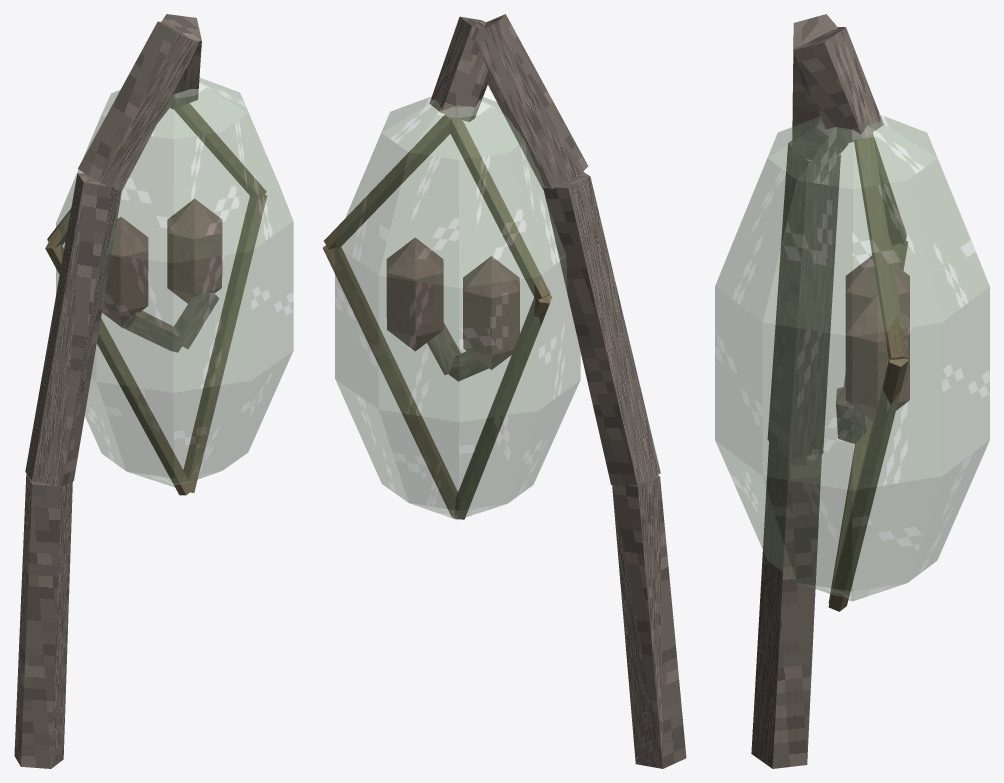
Rendered from f_alien_pod_organ.glb.
3 views of the same model, side by side, from view 1: azimuth 30°, elevation 25°; view 2: azimuth 150°, elevation 25°; view 3: azimuth 270°, elevation 25° (orthographic). The views are drawn at different scales.
Parts seen in each view (by area): view 1: block_translucent-pod-membrane, block_arched-suspension-stalk-2, block_arched-suspension-stalk-1, block_obscured-organ-outline (×2), block_arched-suspension-stalk-3, block_membrane-vein-2 (×2), block_membrane-vein-1, block_arched-suspension-stalk-4, block_faint-preserved-strand-2, block_faint-preserved-strand-1; view 2: block_translucent-pod-membrane, block_arched-suspension-stalk-2, block_arched-suspension-stalk-1, block_obscured-organ-outline (×2), block_membrane-vein-2 (×2), block_arched-suspension-stalk-3, block_membrane-vein-1 (×2), block_arched-suspension-stalk-4, block_faint-preserved-strand-2, block_faint-preserved-strand-1; view 3: block_translucent-pod-membrane, block_arched-suspension-stalk-1, block_arched-suspension-stalk-2, block_membrane-vein-2 (×2), block_obscured-organ-outline (×2), block_arched-suspension-stalk-4, block_membrane-vein-1 (×2), block_arched-suspension-stalk-3, block_faint-preserved-strand-2.
Part boxes in pixels (x1,y1,x2,y2): block_translucent-pod-membrane: [56, 78, 293, 487]; block_arched-suspension-stalk-2: [25, 173, 121, 486]; block_arched-suspension-stalk-1: [14, 474, 72, 768]; block_obscured-organ-outline (×2): [102, 199, 222, 326]; block_arched-suspension-stalk-3: [78, 21, 198, 191]; block_membrane-vein-2 (×2): [45, 195, 266, 495]; block_membrane-vein-1: [174, 103, 266, 198]; block_arched-suspension-stalk-4: [161, 14, 201, 109]; block_faint-preserved-strand-2: [174, 290, 218, 349]; block_faint-preserved-strand-1: [121, 311, 181, 352]; block_translucent-pod-membrane: [335, 96, 580, 519]; block_arched-suspension-stalk-2: [543, 171, 660, 485]; block_arched-suspension-stalk-1: [612, 475, 686, 768]; block_obscured-organ-outline (×2): [386, 237, 519, 369]; block_membrane-vein-2 (×2): [323, 245, 551, 519]; block_arched-suspension-stalk-3: [476, 14, 588, 189]; block_membrane-vein-1 (×2): [324, 114, 550, 300]; block_arched-suspension-stalk-4: [429, 16, 492, 121]; block_faint-preserved-strand-2: [427, 323, 460, 374]; block_faint-preserved-strand-1: [448, 351, 488, 381]; block_translucent-pod-membrane: [715, 114, 989, 601]; block_arched-suspension-stalk-1: [751, 441, 821, 768]; block_arched-suspension-stalk-2: [767, 140, 840, 458]; block_membrane-vein-2 (×2): [828, 241, 908, 611]; block_obscured-organ-outline (×2): [845, 256, 909, 420]; block_arched-suspension-stalk-4: [793, 27, 883, 146]; block_membrane-vein-1 (×2): [854, 133, 907, 359]; block_arched-suspension-stalk-3: [792, 14, 847, 169]; block_faint-preserved-strand-2: [836, 387, 866, 443].
Bounding box in the file's own units: 0.582 × 1.29 × 0.3915.
2 materials, 2 textured.
